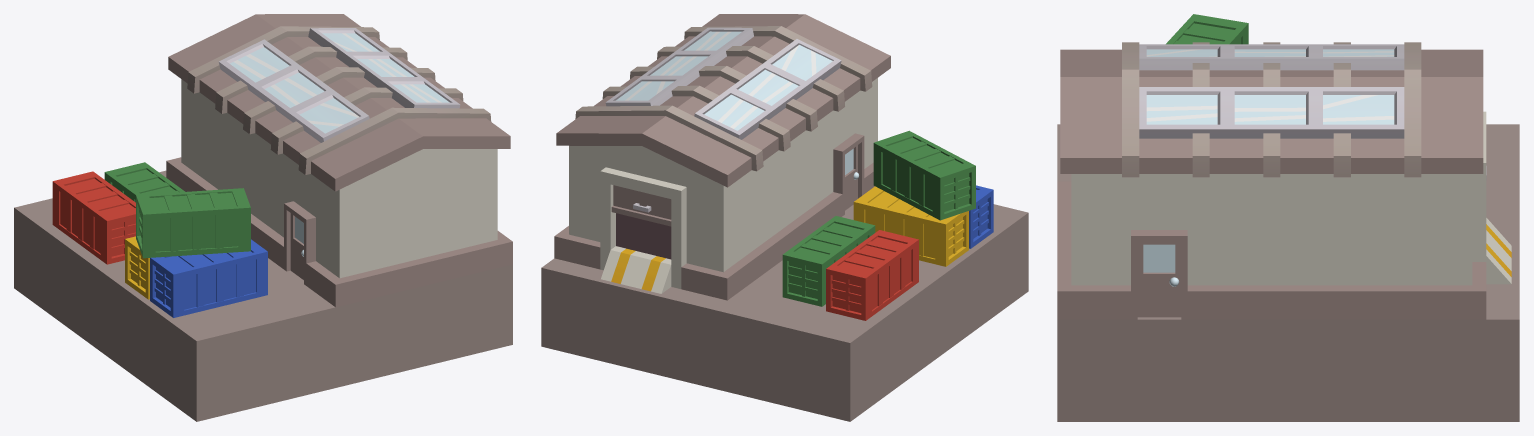
Rendered from Background_Warehouse.fbx.
3 views of the same model, side by side, from view 1: azimuth 30°, elevation 25°; view 2: azimuth 150°, elevation 25°; view 3: azimuth 270°, elevation 25° (orthographic). The views are drawn at different scales.
Parts seen in each view (by area): view 1: Background_Warehouse; view 2: Background_Warehouse; view 3: Background_Warehouse.
Part boxes in pixels (bbox=[...]): Background_Warehouse: bbox=[14, 14, 512, 421]; Background_Warehouse: bbox=[541, 14, 1028, 421]; Background_Warehouse: bbox=[1057, 14, 1519, 421].
Size of the model in its own units: 406 by 284 by 400.
